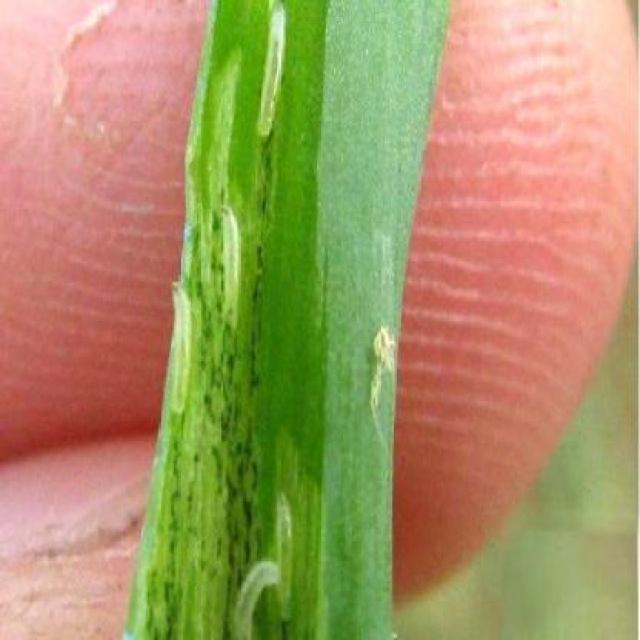whorl-maggot: (222, 554, 280, 640), (253, 0, 285, 146), (270, 490, 301, 625), (215, 206, 247, 334), (170, 278, 195, 422)
